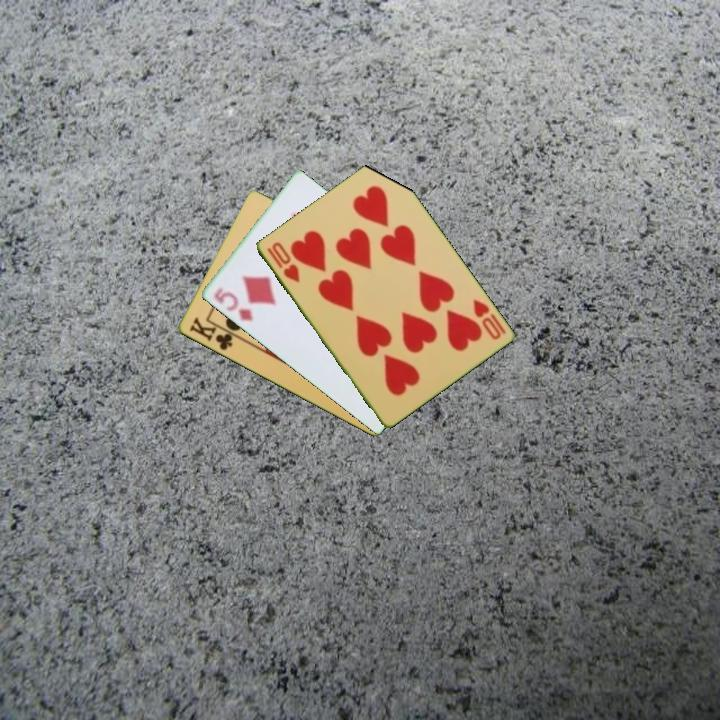10h: (263, 238, 303, 285), (469, 296, 508, 343)
5d: (210, 284, 255, 324)
Kc: (185, 313, 241, 354)
